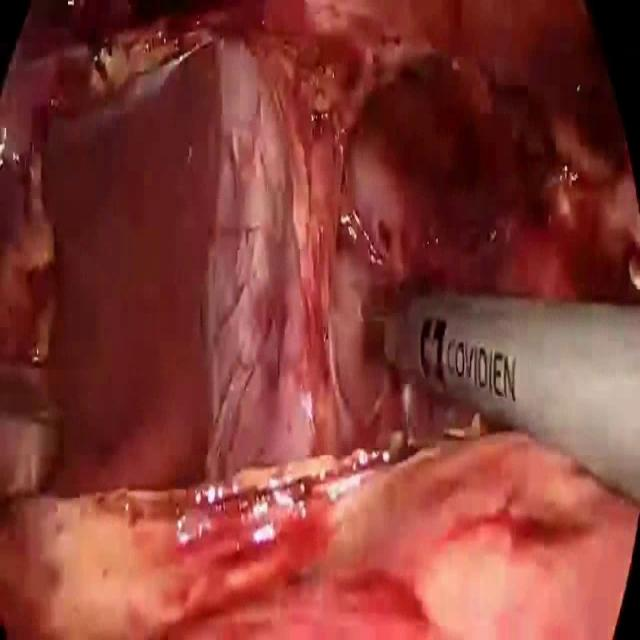surgical-area: (0, 0, 640, 639)
surgical-tool: (363, 289, 640, 505)
